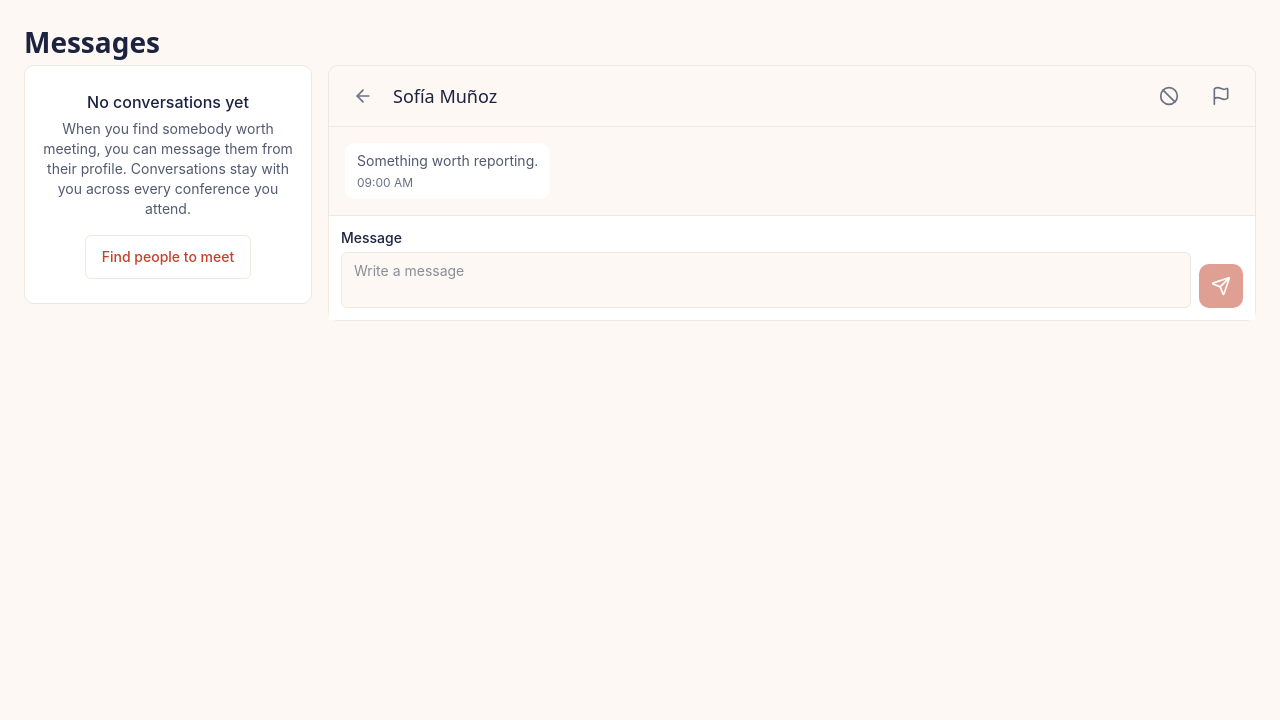
Scenario: the block confirmation › dismisses on the close control, by the same path
Click the button named "block sofía muñoz". click: (1169, 96)
box: [1147, 74, 1191, 118]
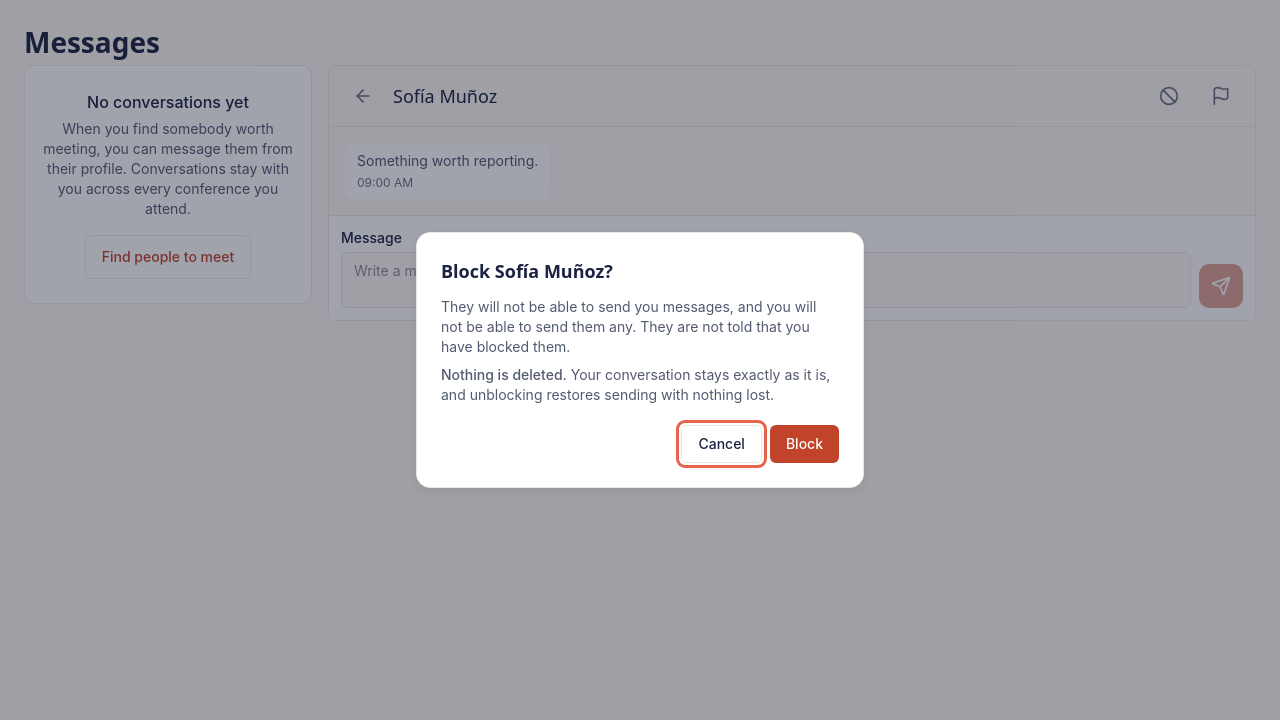
Click the button "Cancel". click: (722, 444)
box: [681, 425, 762, 463]
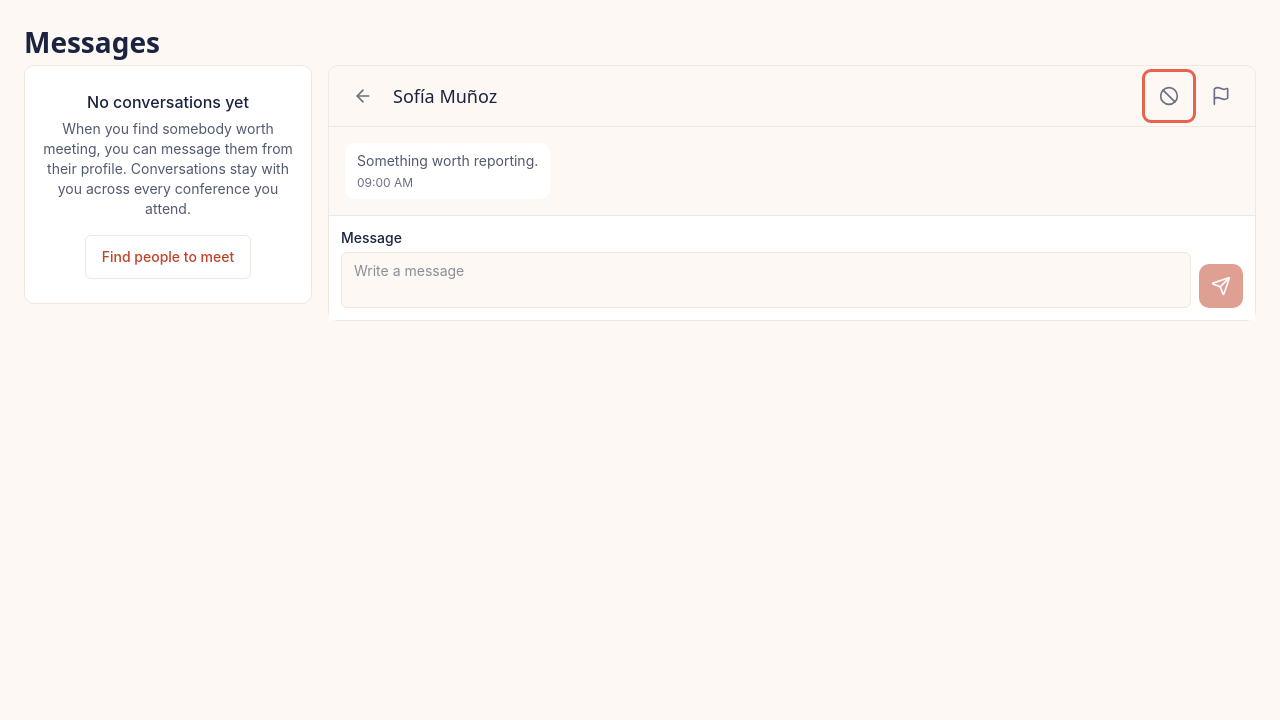
Now the dialog is gone
